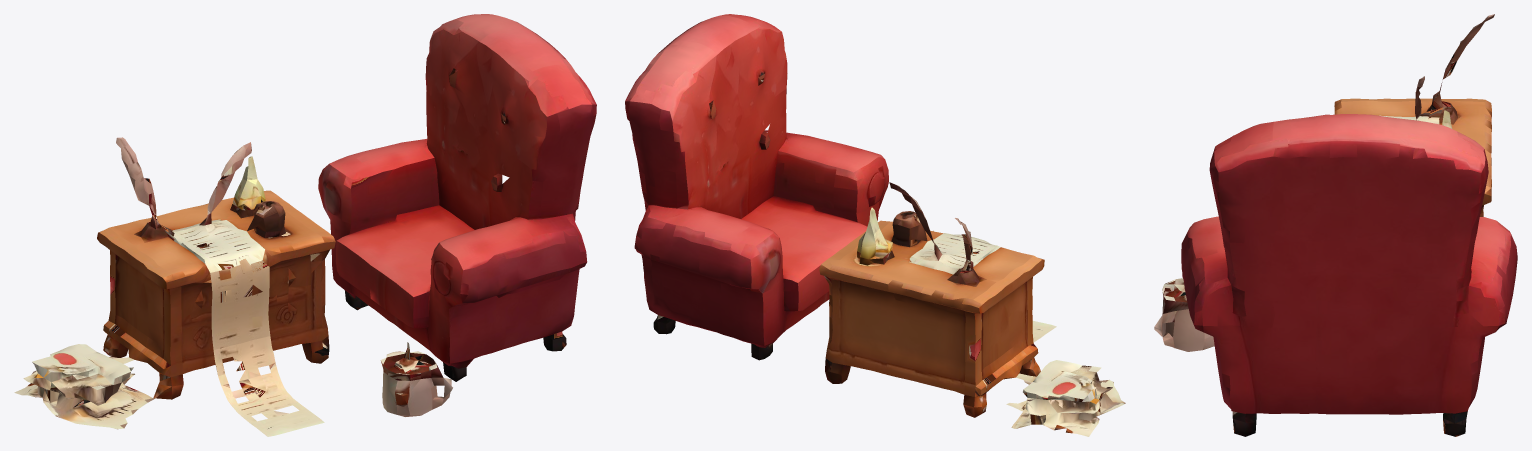
Rendered from xsw_chair.glb.
3 views of the same model, side by side, from view 1: azimuth 30°, elevation 25°; view 2: azimuth 150°, elevation 25°; view 3: azimuth 270°, elevation 25° (orthographic). The views are drawn at different scales.
Visible parts, largest first — view 1: mesh_q; view 2: mesh_q; view 3: mesh_q.
Boxes of the visible parts, <box> form: mesh_q: <box>14,14,596,436</box>; mesh_q: <box>625,14,1125,436</box>; mesh_q: <box>1154,14,1517,436</box>.
Bounding box in the file's own units: 96.88 × 54.25 × 55.91.
Materials: 1 (1 with a texture image).
